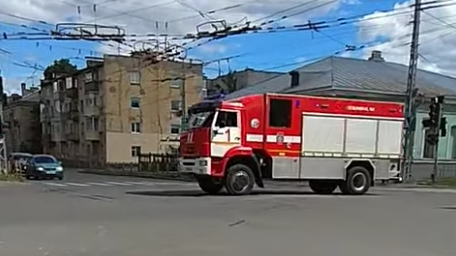fire fighting vehicle: (175, 90, 407, 196)
non emergency car: (24, 153, 62, 180)
